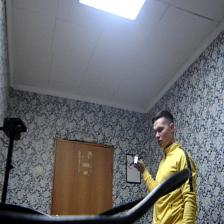drone: (125, 142, 149, 174)
